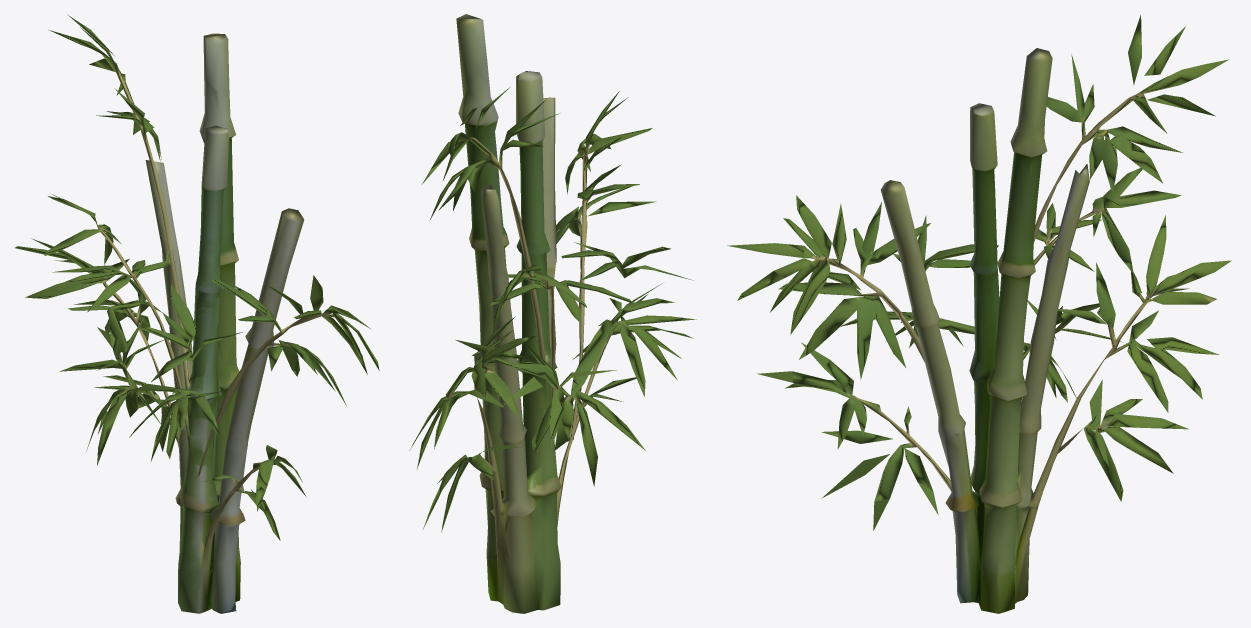
File: bamboo.glb
3 views of the same model, side by side, from view 1: azimuth 30°, elevation 25°; view 2: azimuth 150°, elevation 25°; view 3: azimuth 270°, elevation 25° (orthographic). The views are drawn at different scales.
Parts seen in each view (by area): view 1: tripo_node_052d1962-904f-424b-99b1-77dd76e0f88c; view 2: tripo_node_052d1962-904f-424b-99b1-77dd76e0f88c; view 3: tripo_node_052d1962-904f-424b-99b1-77dd76e0f88c.
Boxes of the visible parts, left/top/right/bottom form: tripo_node_052d1962-904f-424b-99b1-77dd76e0f88c: left=15, top=14, right=379, bottom=613; tripo_node_052d1962-904f-424b-99b1-77dd76e0f88c: left=409, top=14, right=696, bottom=613; tripo_node_052d1962-904f-424b-99b1-77dd76e0f88c: left=727, top=15, right=1231, bottom=613.
Bounding box in the file's own units: 0.3422 × 1 × 0.8263.
1 material, 1 textured.
